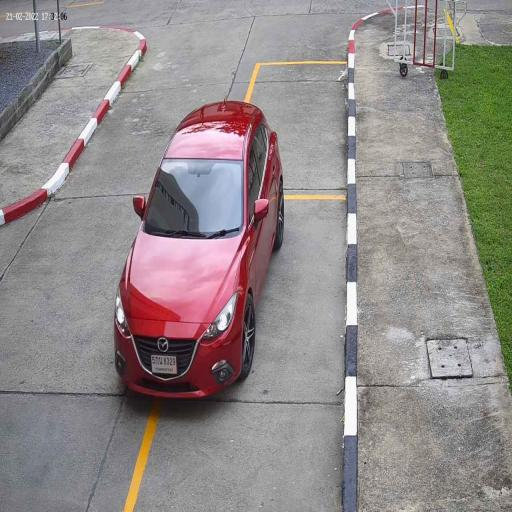car: (112, 100, 286, 406)
